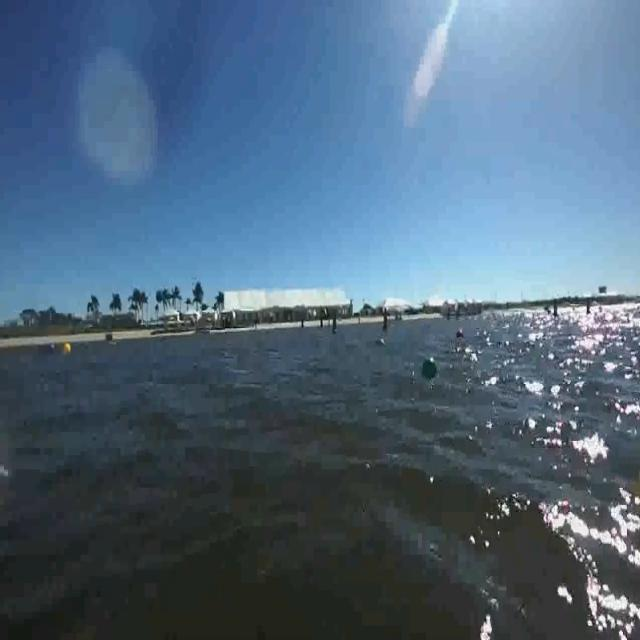yellow-buoy: (61, 332, 74, 361)
